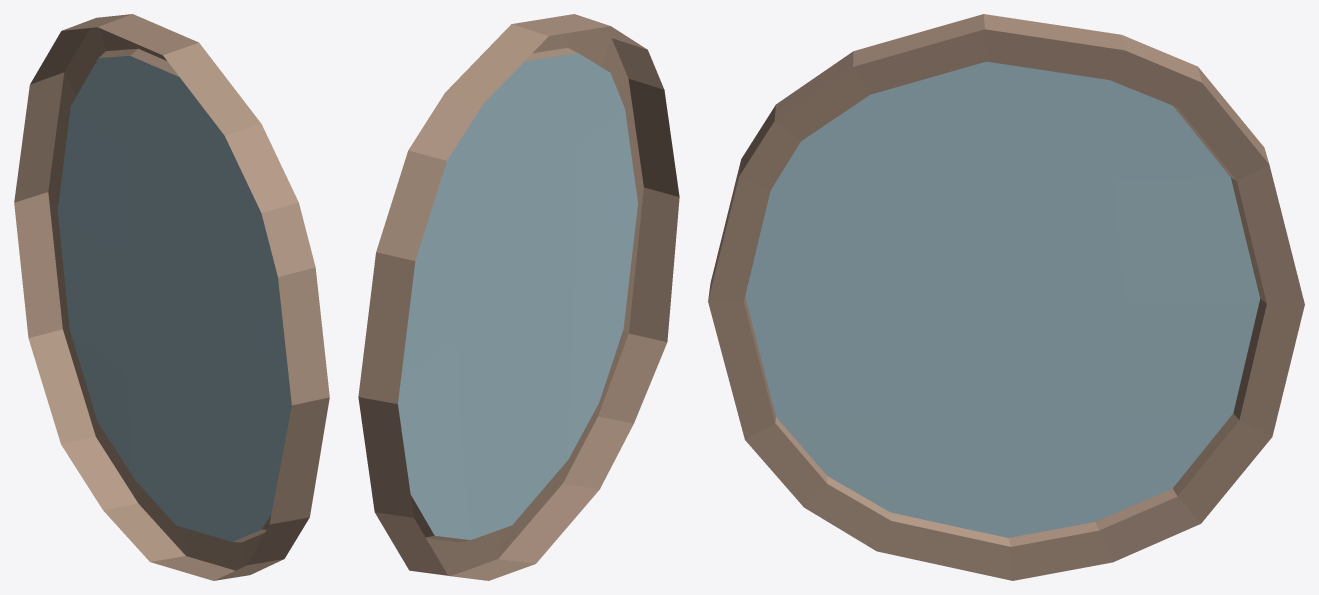
Rendered from Mirror_5.fbx.
3 views of the same model, side by side, from view 1: azimuth 30°, elevation 25°; view 2: azimuth 150°, elevation 25°; view 3: azimuth 270°, elevation 25° (orthographic). The views are drawn at different scales.
Visible parts, largest first — view 1: Mirror_5; view 2: Mirror_5; view 3: Mirror_5.
Part boxes in pixels (<box>): Mirror_5: <box>14,14,329,580</box>; Mirror_5: <box>358,14,679,580</box>; Mirror_5: <box>708,14,1304,580</box>.
Bounding box in the file's own units: 9.83 × 111 × 113.
